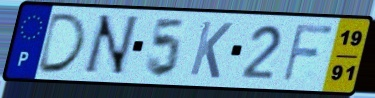2: (239, 23, 286, 81)
5: (142, 16, 189, 79)
D: (33, 12, 89, 75)
F: (279, 22, 336, 85)
K: (186, 19, 235, 81)
N: (79, 13, 142, 78)
